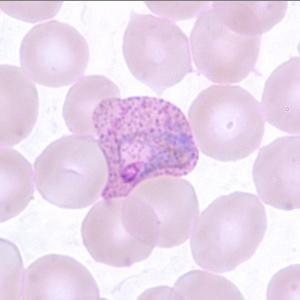Infected: (91, 96, 198, 200)
Uninfected: (191, 190, 270, 273), (188, 81, 262, 162), (121, 172, 197, 249), (190, 5, 262, 81), (83, 197, 161, 266), (123, 11, 190, 91), (35, 136, 105, 209), (19, 21, 88, 87), (64, 76, 123, 139)
